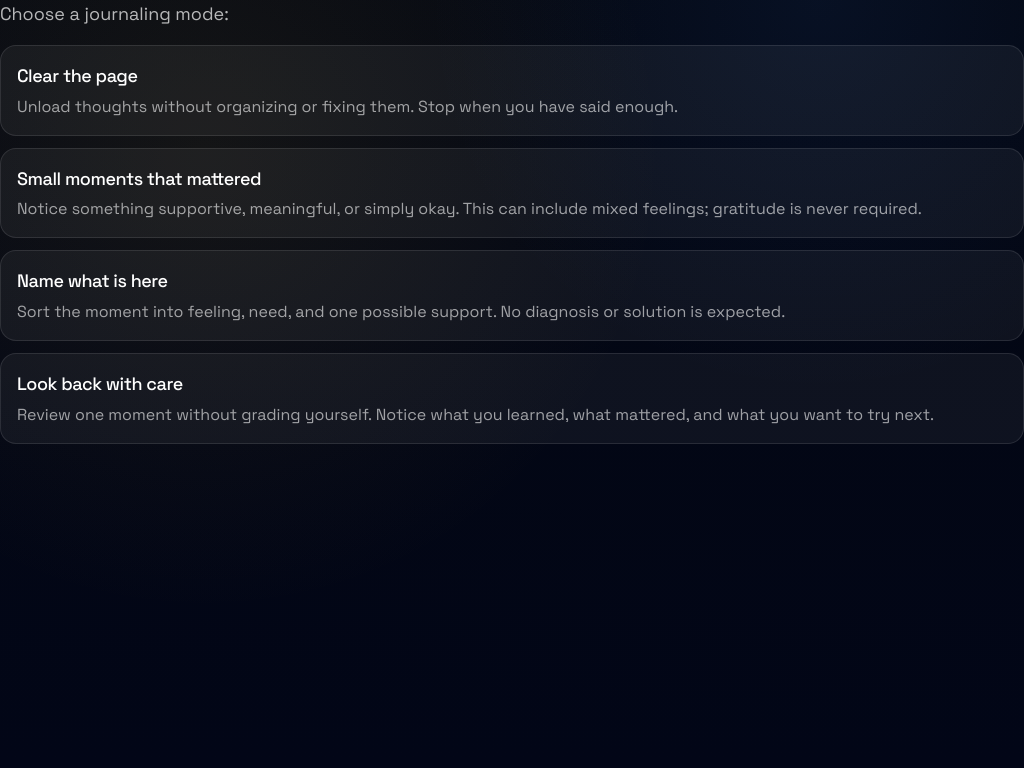
it: JournalingTool Scribe assist › keeps spoken guidance and Scribe available in embedded Journal
What coordinates should you click on to do the following:
click the button "Clear the page"
I would click on:
 (77, 75)
Its box is [0, 45, 1023, 136].
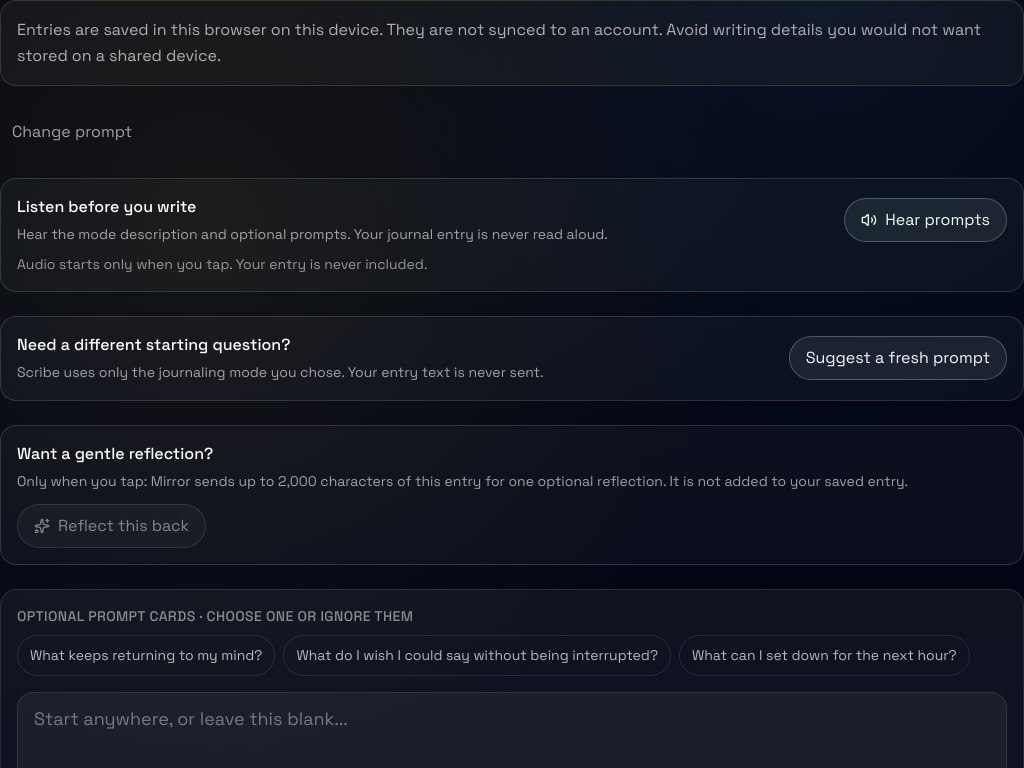
Now the element named "Spoken journaling prompts" is shown, box [0, 178, 1023, 292]
What coordinates should you click on to do the following:
click the button "Suggest a fresh prompt"
I would click on:
 (898, 358)
Its box is [789, 336, 1007, 380].
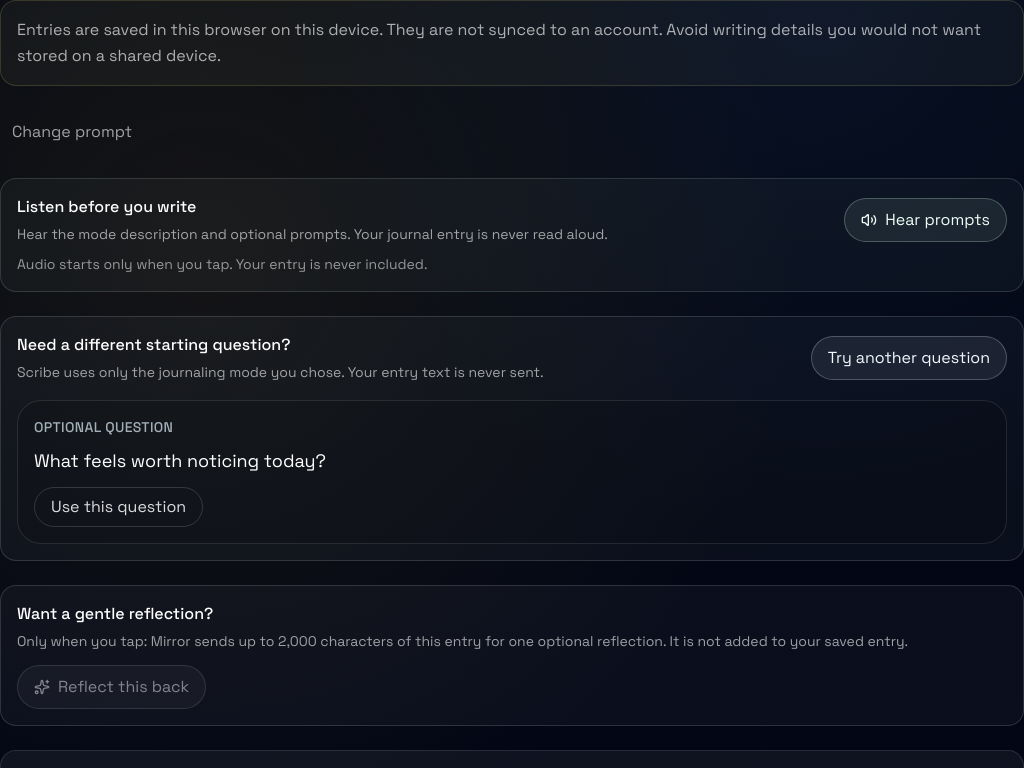
Now the text "What feels worth noticing today?" is shown, box [34, 448, 326, 472]
